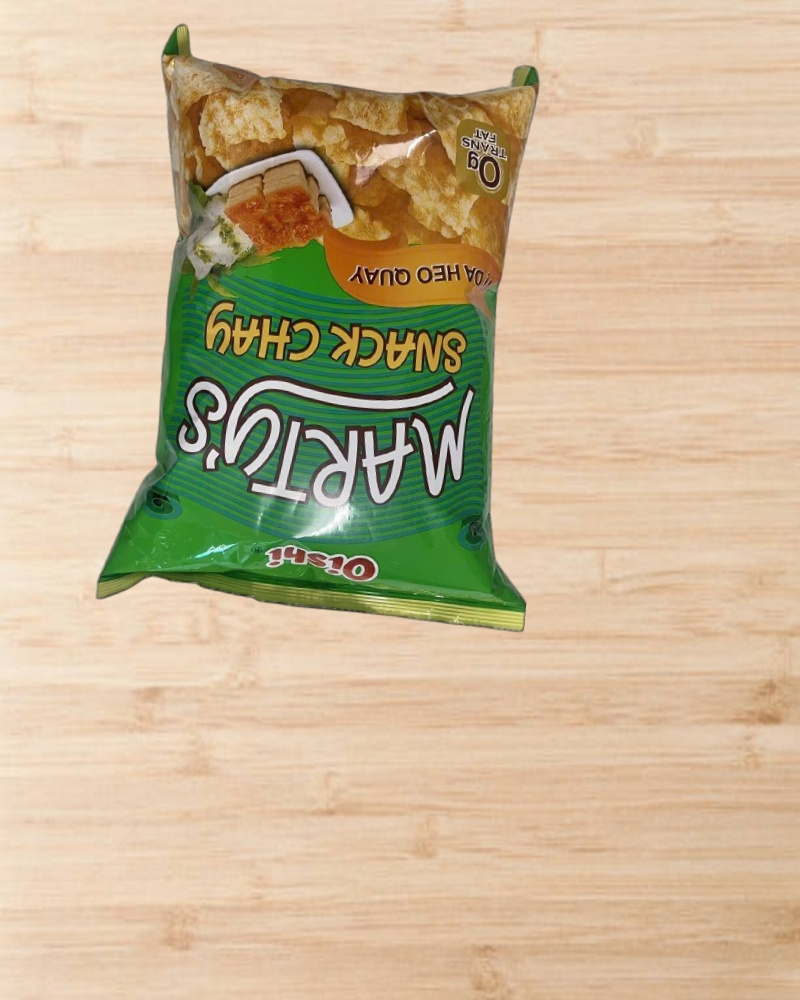Snack chay: (117, 25, 573, 637)
